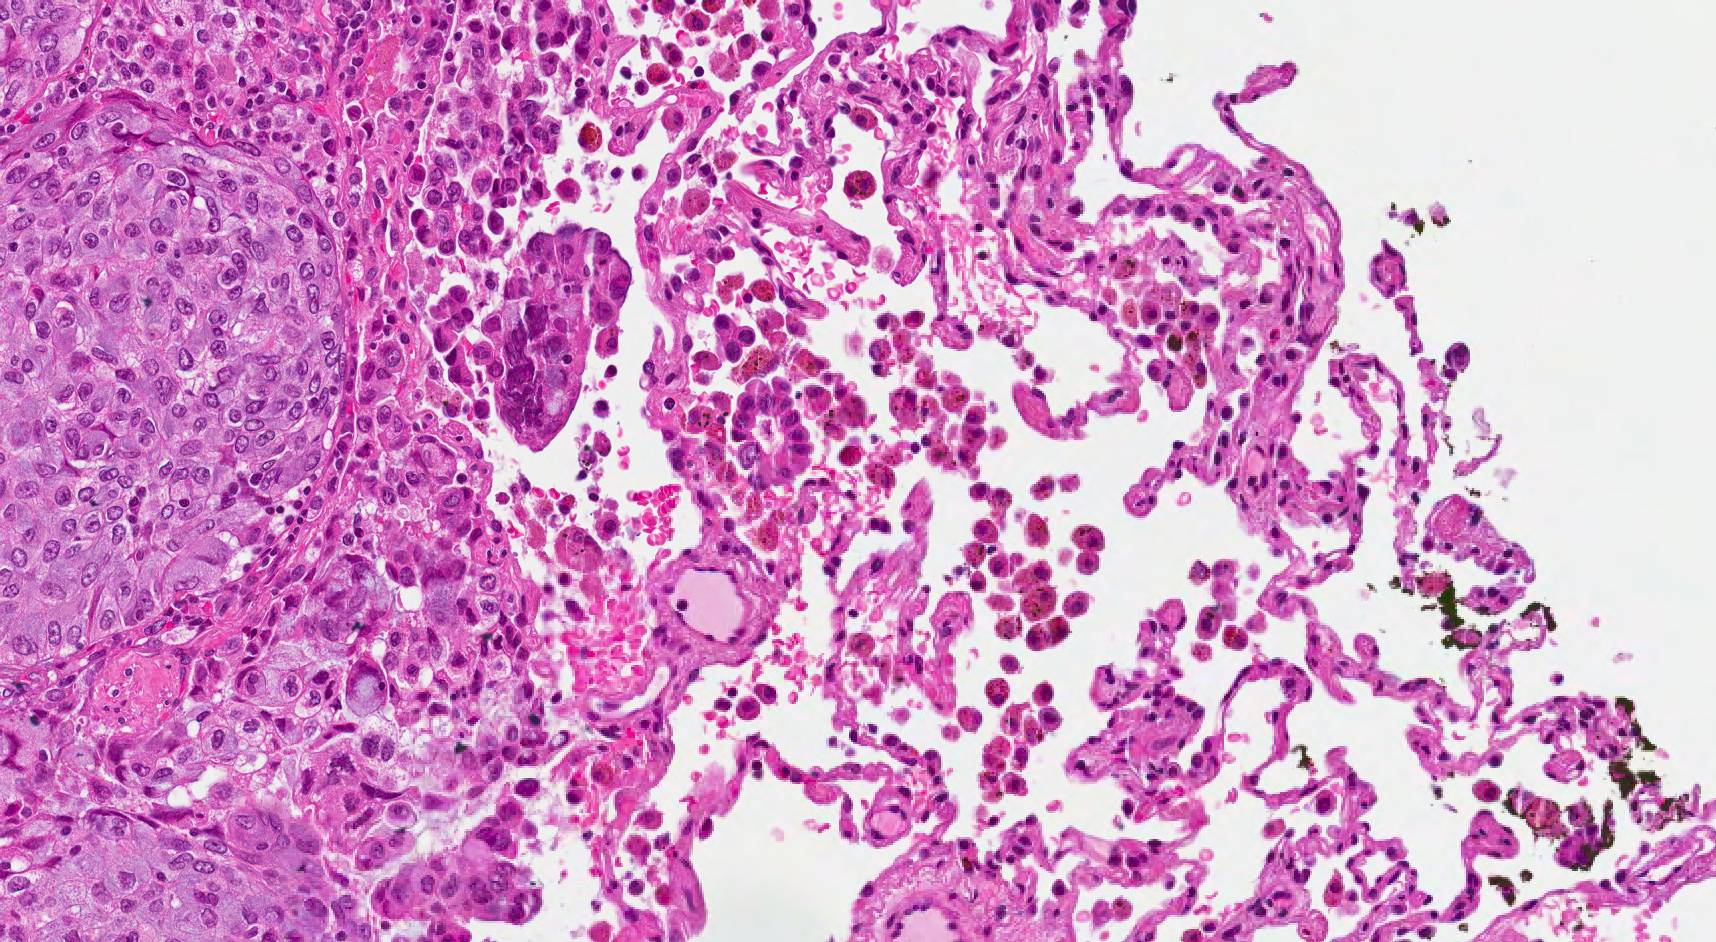stas: (486, 226, 632, 457), (731, 378, 817, 493)
